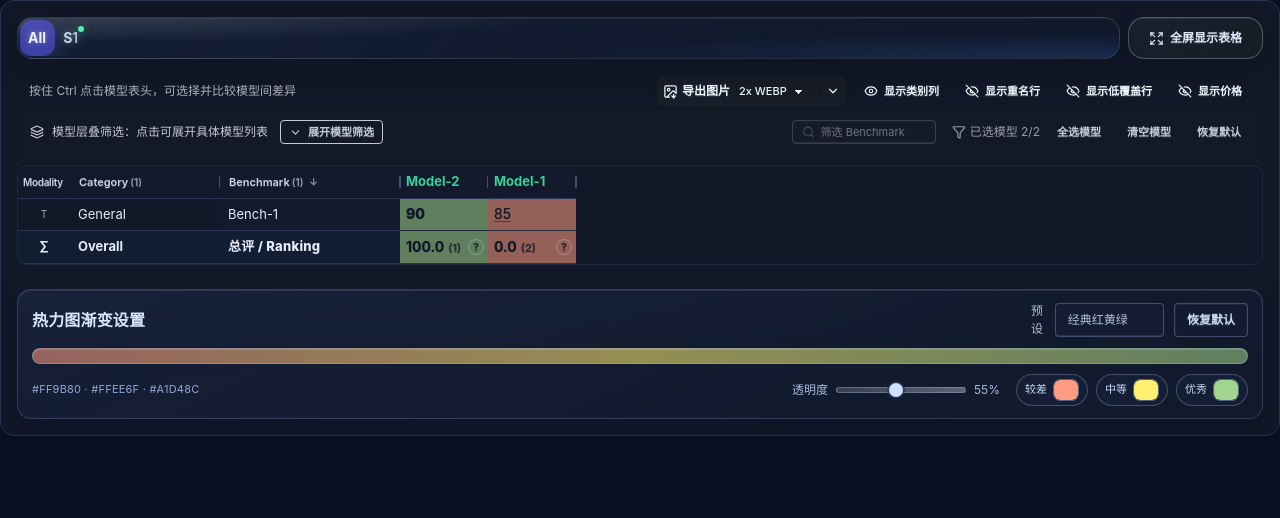
Test case: BenchmarkMatrix 价格空行隐藏集成测试 › 打开显示价格时，无任何模型有缓存读价格则自动隐藏 Cache Input Price 行
Click the button "显示价格" at (1210, 91), box left=1169, top=79, right=1251, bottom=103
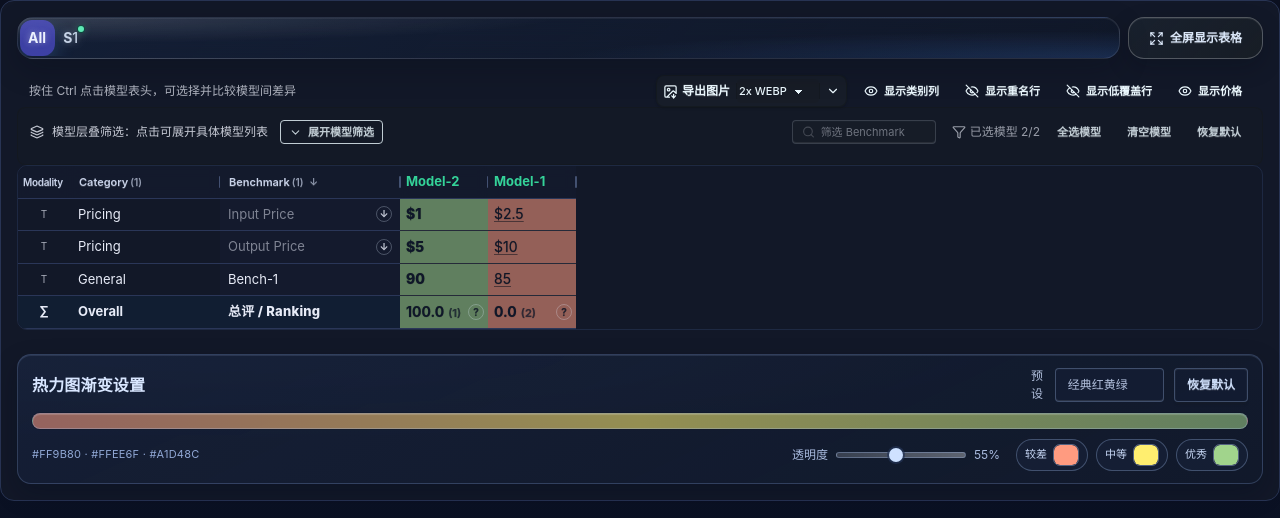
expect the text "Input Price" is shown: met, box left=228, top=206, right=294, bottom=222
expect the text "Output Price" is shown: met, box left=228, top=238, right=305, bottom=254
